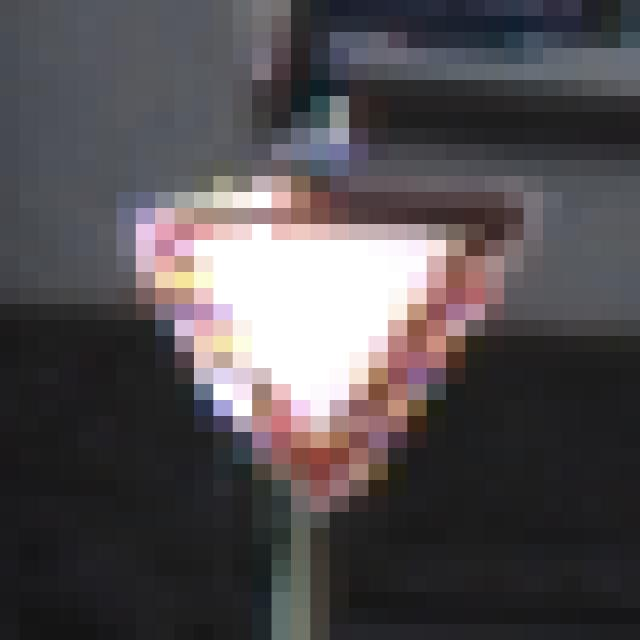Give Way: (117, 81, 544, 561)
